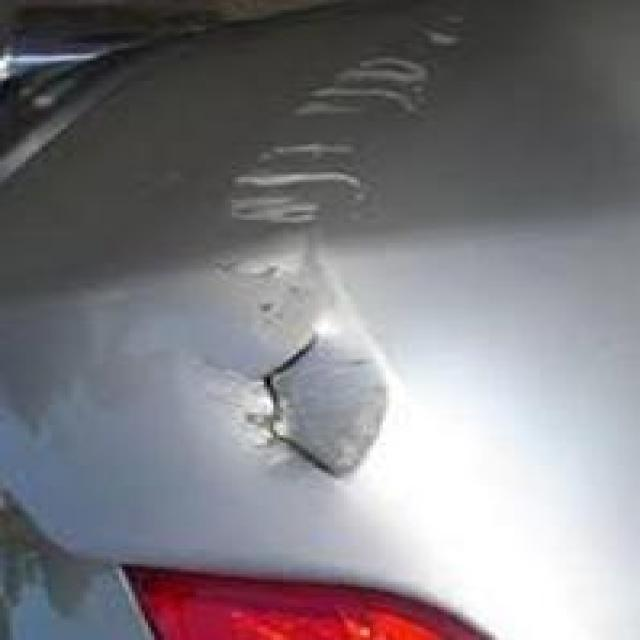scratch: (166, 13, 507, 264)
